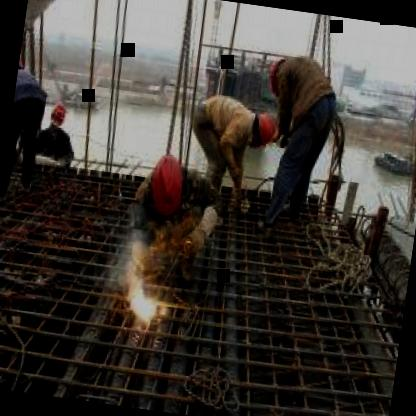helmet: (140, 146, 194, 224), (242, 107, 280, 151), (263, 53, 292, 98), (44, 99, 70, 135)
